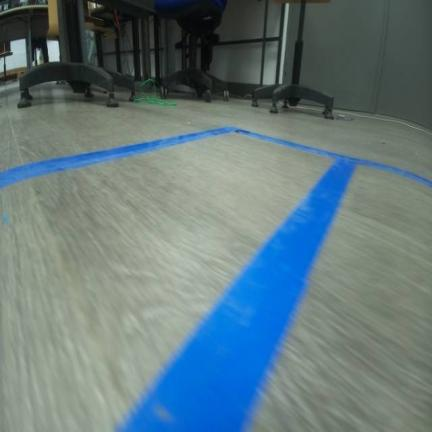place: (0, 125, 360, 431), (115, 156, 431, 431)
